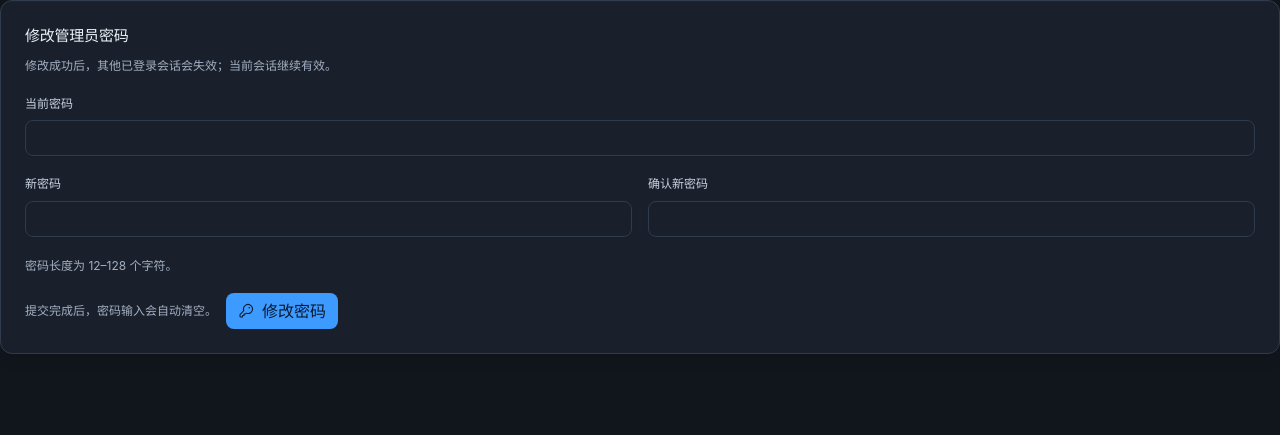
it: PasswordChangeSection › validates confirmation and sends only the two contract fields
In the password field labelled "当前密码": point(640, 138) left=25, top=120, right=1255, bottom=156, type "old-password-123"
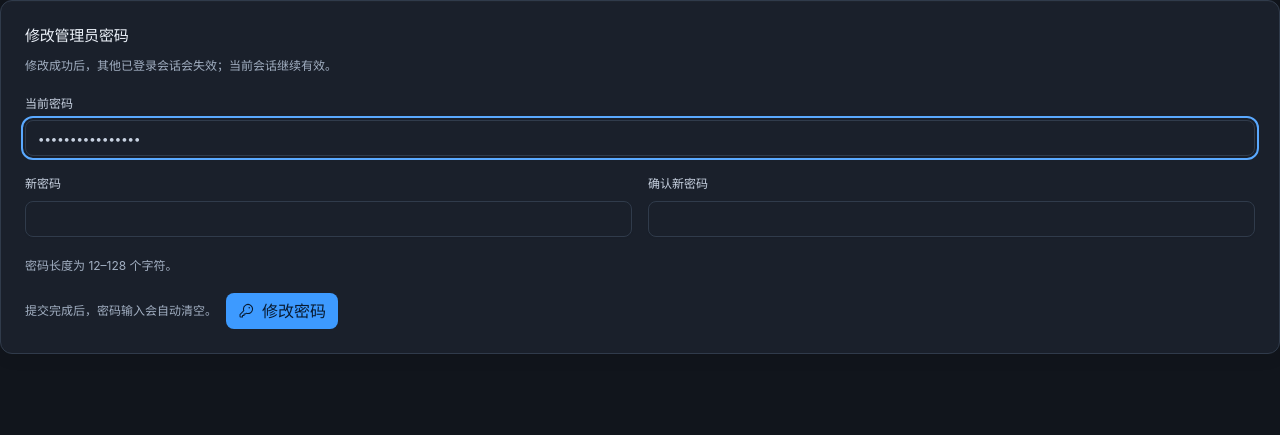
In the password field labelled "新密码": point(328, 219) left=25, top=201, right=632, bottom=237, type "new-password-123"
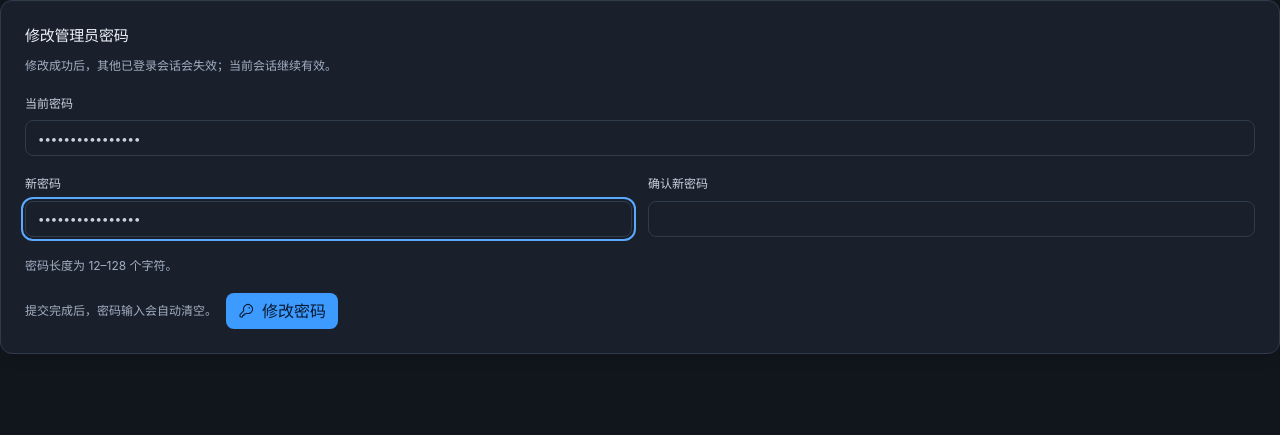
In the password field labelled "确认新密码": point(952, 219) left=648, top=201, right=1255, bottom=237, type "different-1234"
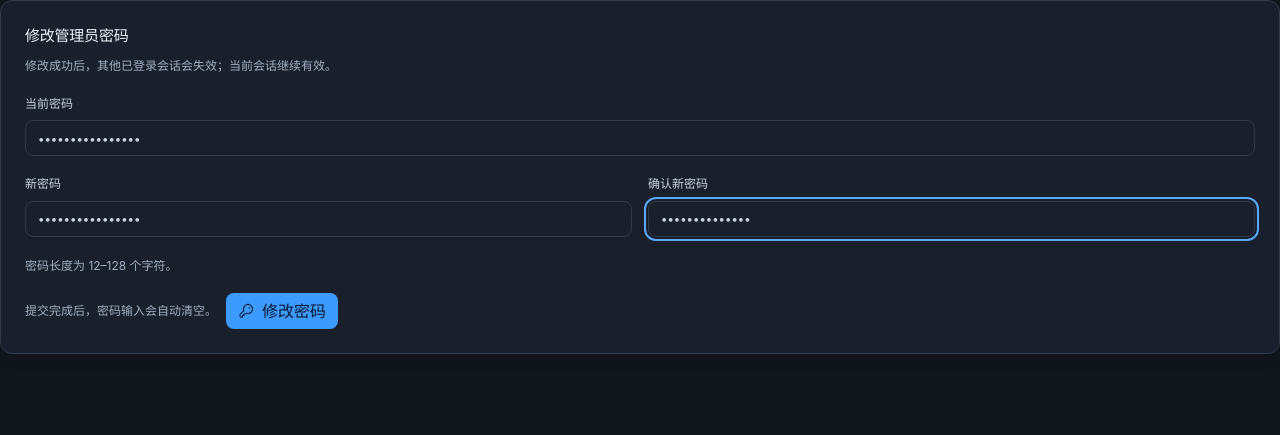
Click the button "修改密码": point(282, 311) left=226, top=293, right=338, bottom=329
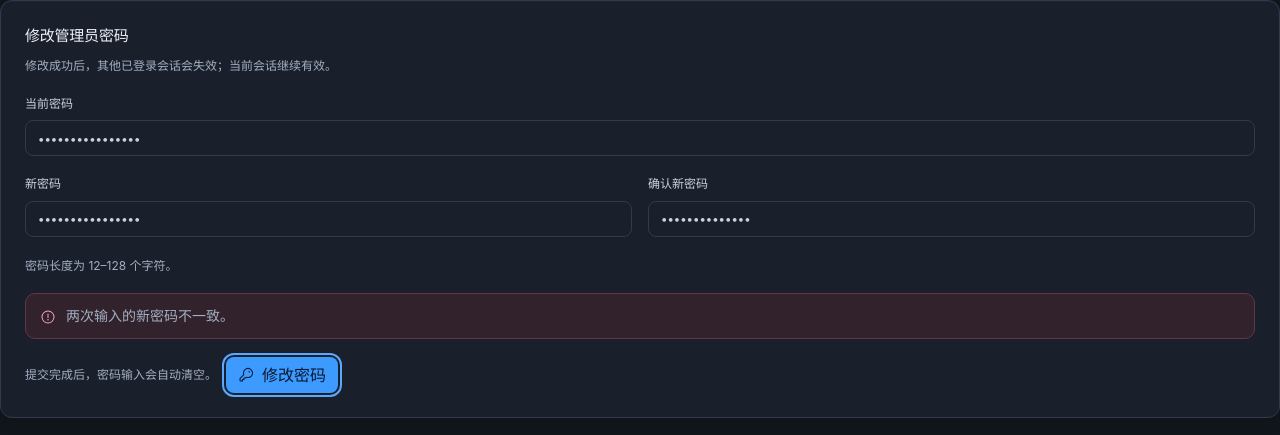
Now the message shows "不一致", box left=25, top=293, right=1255, bottom=339
In the password field labelled "确认新密码": point(952, 219) left=648, top=201, right=1255, bottom=237, type "new-password-123"
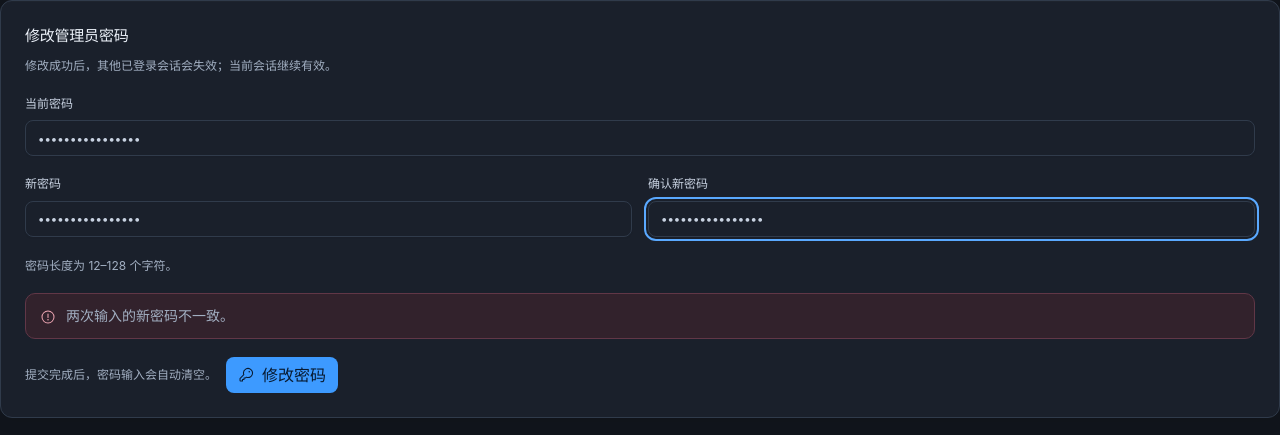
Click the button "修改密码": point(282, 375) left=226, top=357, right=338, bottom=393
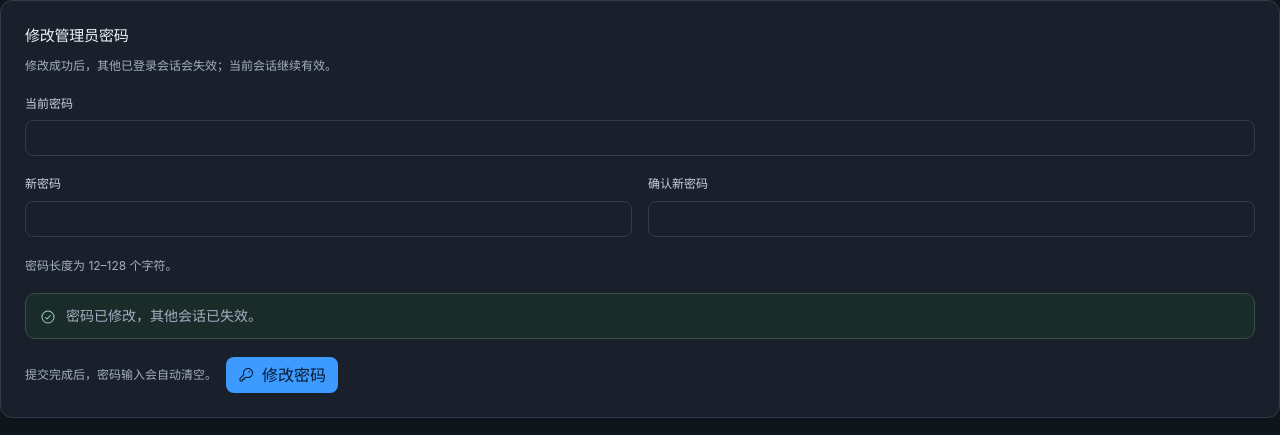
Now the message shows "其他会话已失效", box left=66, top=307, right=262, bottom=324
Now the password field labelled "当前密码" is empty, box left=25, top=120, right=1255, bottom=156
Now the password field labelled "新密码" is empty, box left=25, top=201, right=632, bottom=237
